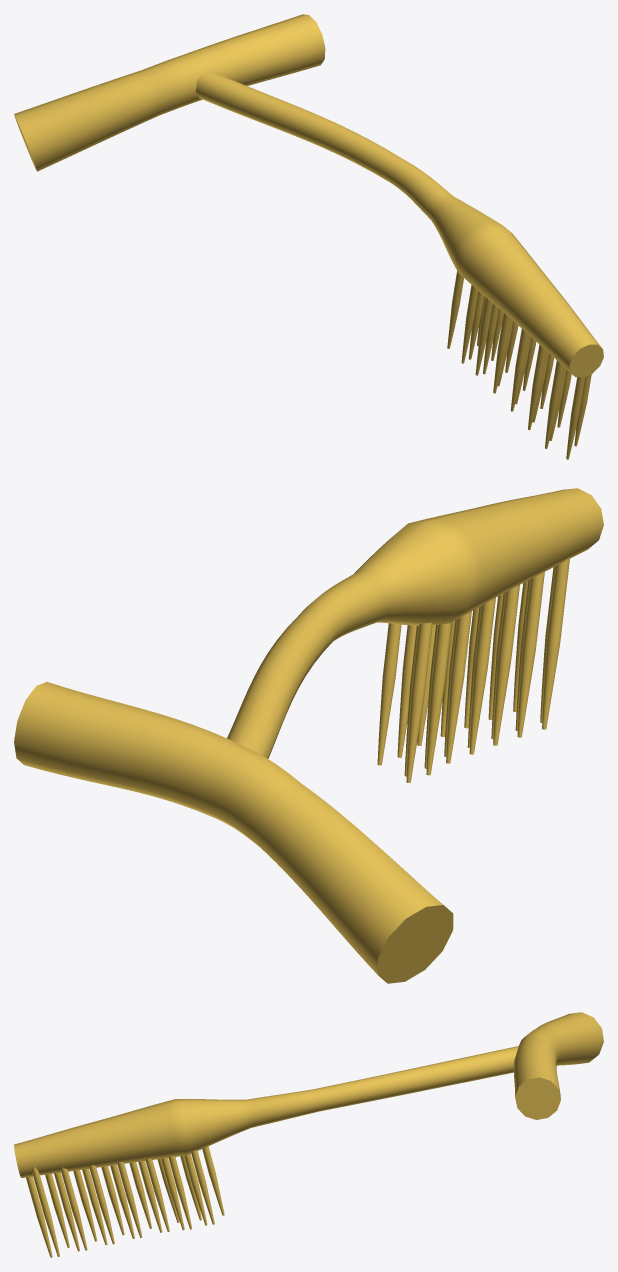
The model's file is Olfactory_nerve_I_right.glb.
3 renders of one model, top to bottom at view 1: azimuth 30°, elevation 25°; view 2: azimuth 150°, elevation 25°; view 3: azimuth 270°, elevation 25°, orthographic. The views are drawn at different scales.
Parts seen in each view (by area): view 1: Olfactory_nerve_(I).r_BezierCurve.495; view 2: Olfactory_nerve_(I).r_BezierCurve.495; view 3: Olfactory_nerve_(I).r_BezierCurve.495.
Part boxes in pixels (x1=…): Olfactory_nerve_(I).r_BezierCurve.495: x1=14, y1=14, x2=603, y2=459; Olfactory_nerve_(I).r_BezierCurve.495: x1=14, y1=488, x2=603, y2=983; Olfactory_nerve_(I).r_BezierCurve.495: x1=14, y1=1012, x2=603, y2=1257.
Bounding box in the file's own units: 0.0234 × 0.0184 × 0.0513.
